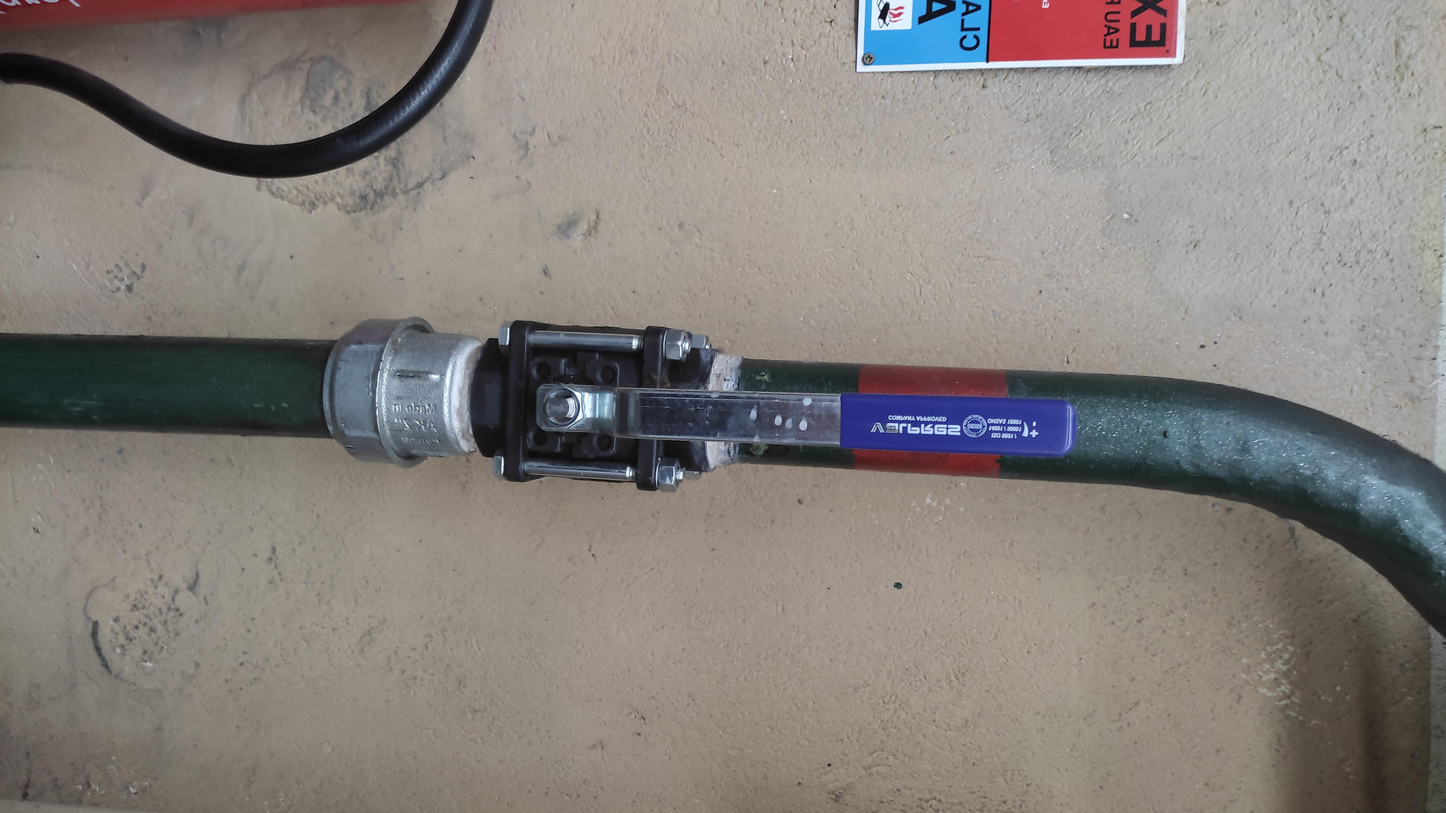opened valve: (467, 315, 1082, 500)
